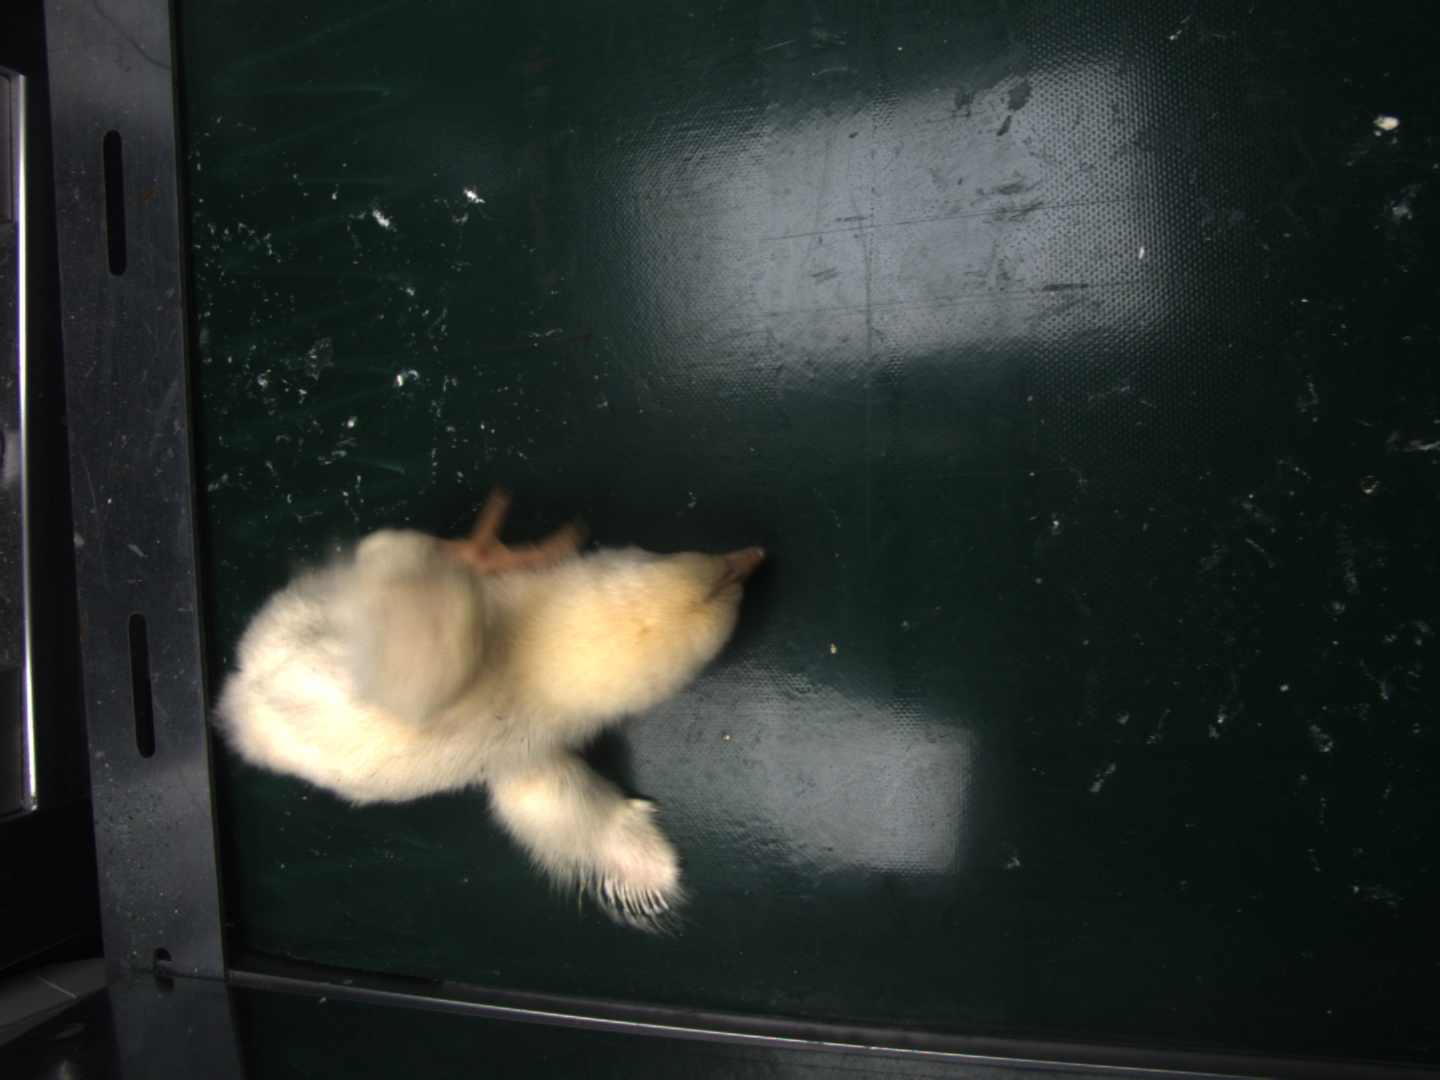male: (598, 861, 681, 925)
